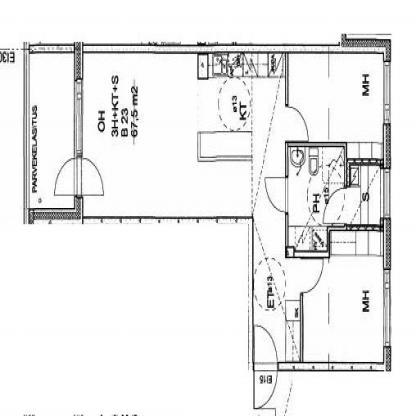door: (50, 155, 108, 200), (250, 322, 278, 412), (321, 183, 364, 228), (283, 101, 312, 148), (260, 173, 290, 218), (299, 257, 327, 298)
window: (71, 76, 86, 160), (380, 265, 394, 350), (381, 56, 394, 129), (381, 163, 394, 222)
